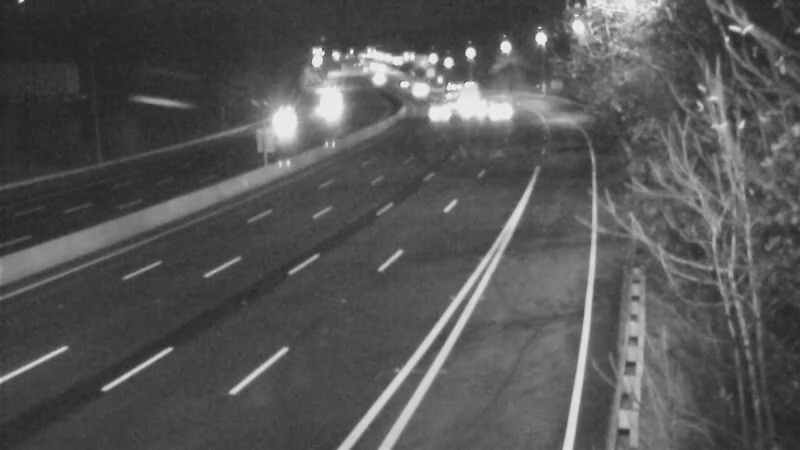vehicle: (424, 63, 474, 113), (390, 62, 440, 112), (442, 68, 492, 118), (467, 77, 517, 127), (442, 86, 492, 136), (417, 88, 467, 138), (262, 96, 312, 146), (301, 77, 351, 127)
